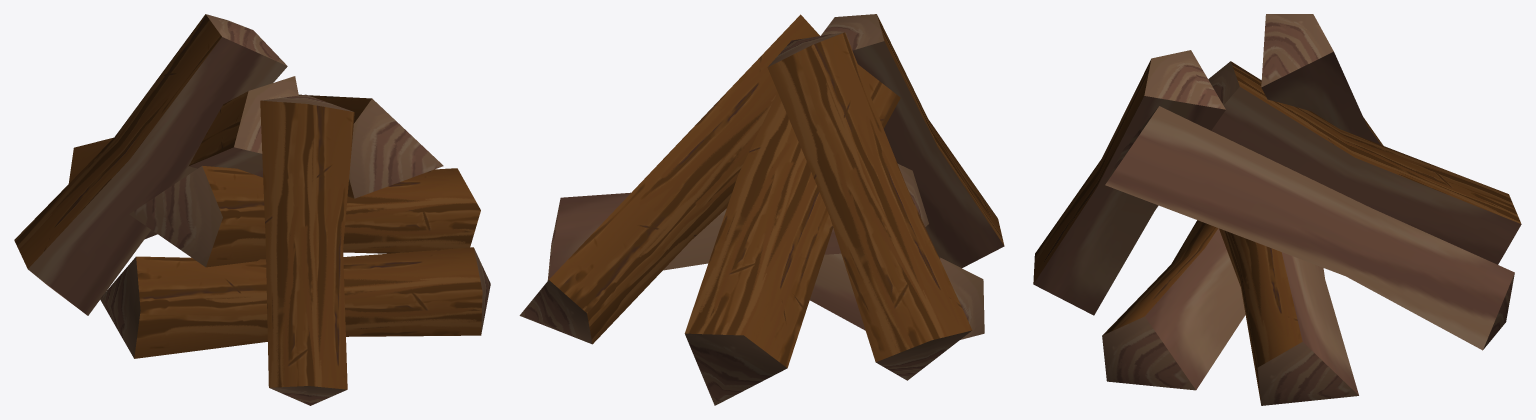
File: SM_PROP_logpile_battle_01.fbx
The picture shows the model from 3 angles, left to right: view 1: azimuth 30°, elevation 25°; view 2: azimuth 150°, elevation 25°; view 3: azimuth 270°, elevation 25°; orthographic projection. The views are drawn at different scales.
Visible parts, largest first — view 1: SM_PROP_logpile_battle_01; view 2: SM_PROP_logpile_battle_01; view 3: SM_PROP_logpile_battle_01.
Boxes of the visible parts, x1,y1,x2,y2 form: SM_PROP_logpile_battle_01: (14, 14, 490, 405); SM_PROP_logpile_battle_01: (519, 14, 1004, 405); SM_PROP_logpile_battle_01: (1033, 14, 1521, 405).
Bounding box in the file's own units: 47.88 × 33.7 × 48.96.
